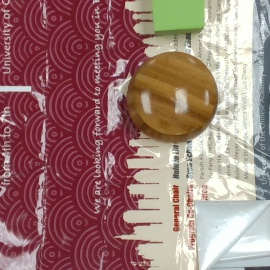chess: (129, 52, 218, 144)
